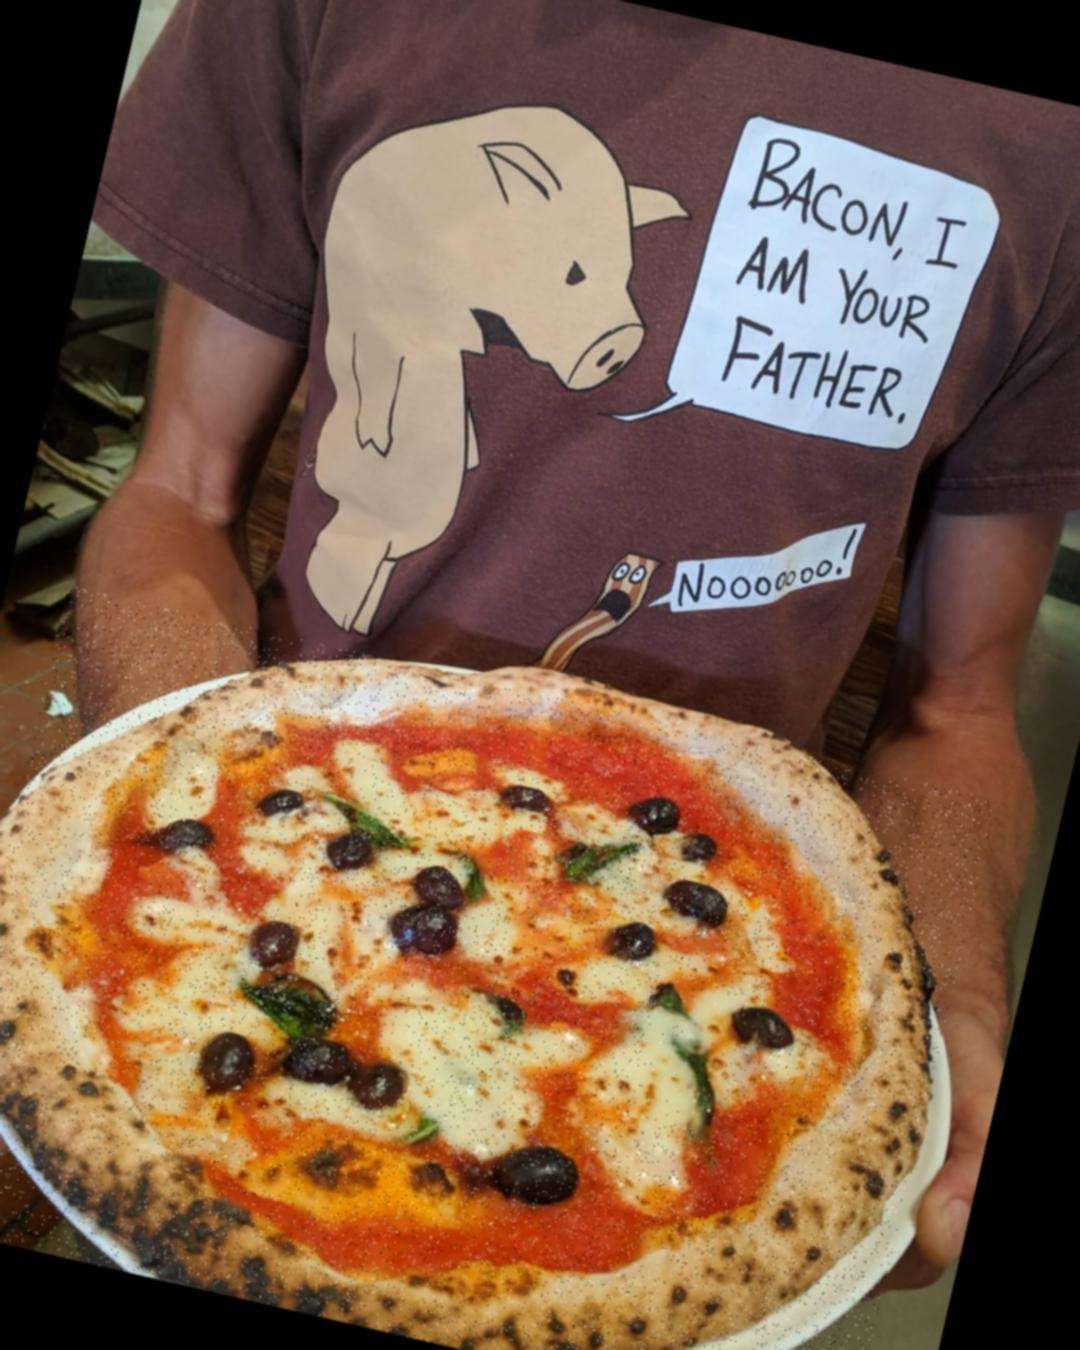Basil: (630, 982, 746, 1134), (236, 968, 345, 1042), (560, 828, 641, 893), (322, 792, 408, 848), (485, 991, 531, 1044), (463, 856, 498, 906)
Olives: (495, 1136, 585, 1206), (190, 1027, 264, 1100), (386, 901, 460, 955), (730, 1001, 800, 1056), (662, 877, 732, 930), (350, 1054, 413, 1109), (244, 916, 304, 973), (288, 1034, 351, 1082), (156, 814, 217, 861), (415, 864, 470, 916), (324, 826, 378, 874), (635, 794, 683, 838), (615, 917, 658, 957), (258, 784, 304, 821), (504, 784, 556, 814), (684, 832, 719, 867)
Pizza: (0, 585, 997, 1350)
